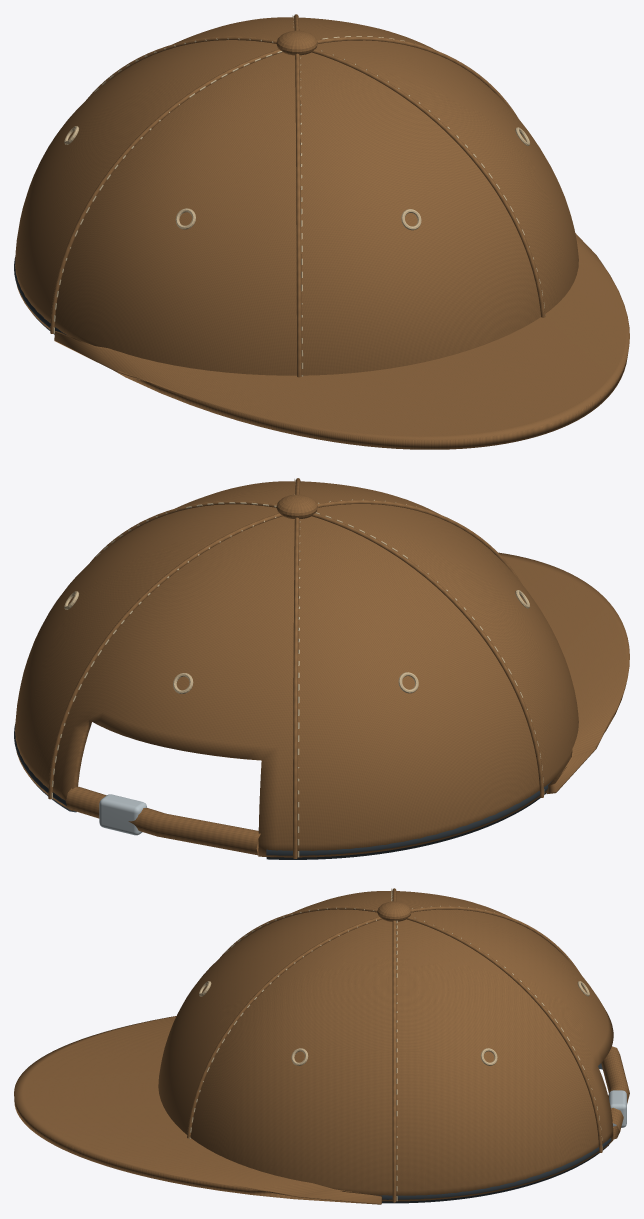
Rendered from BaseballCap_cm.glb.
The picture shows the model from 3 angles, top to bottom: view 1: azimuth 30°, elevation 25°; view 2: azimuth 150°, elevation 25°; view 3: azimuth 270°, elevation 25°; orthographic projection. The views are drawn at different scales.
Parts seen in each view (by area): view 1: Cap_SixPanelHollowCrown, Cap_CurvedVisor, Cap_PanelSeam.005, Cap_PanelSeam.004, Cap_PanelSeam.003, Cap_PanelSeam, Cap_CrownButton, Cap_PanelSeam.002; view 2: Cap_SixPanelHollowCrown, Cap_CurvedVisor, Cap_RearAdjustmentStrap, Cap_InnerSweatband, Cap_PanelSeam.003, Cap_PanelSeam.002, Cap_PanelSeam.001, Cap_AdjustmentBuckle, Cap_PanelSeam.004, Cap_CrownButton, Cap_PanelSeam; view 3: Cap_SixPanelHollowCrown, Cap_CurvedVisor, Cap_InnerSweatband, Cap_PanelSeam, Cap_PanelSeam.001, Cap_PanelSeam.005, Cap_RearAdjustmentStrap, Cap_PanelSeam.002, Cap_CrownButton, Cap_PanelSeam.004.
Part boxes in pixels (x1,y1,x2,y2): Cap_SixPanelHollowCrown: [15, 17, 578, 375]; Cap_CurvedVisor: [54, 233, 629, 449]; Cap_PanelSeam.005: [312, 49, 545, 317]; Cap_PanelSeam.004: [295, 53, 301, 377]; Cap_PanelSeam.003: [50, 49, 282, 333]; Cap_PanelSeam: [317, 36, 517, 117]; Cap_CrownButton: [276, 30, 317, 55]; Cap_PanelSeam.002: [86, 36, 276, 99]; Cap_SixPanelHollowCrown: [15, 481, 578, 857]; Cap_CurvedVisor: [498, 552, 629, 793]; Cap_RearAdjustmentStrap: [66, 786, 260, 855]; Cap_InnerSweatband: [14, 722, 551, 859]; Cap_PanelSeam.003: [312, 513, 543, 797]; Cap_PanelSeam.002: [293, 517, 299, 858]; Cap_PanelSeam.001: [48, 513, 282, 799]; Cap_AdjustmentBuckle: [99, 794, 146, 835]; Cap_PanelSeam.004: [317, 500, 521, 582]; Cap_CrownButton: [276, 494, 317, 518]; Cap_PanelSeam: [90, 500, 277, 562]; Cap_SixPanelHollowCrown: [158, 891, 613, 1201]; Cap_CurvedVisor: [14, 1016, 382, 1204]; Cap_InnerSweatband: [375, 1063, 611, 1203]; Cap_PanelSeam: [392, 920, 396, 1202]; Cap_PanelSeam.001: [407, 917, 602, 1152]; Cap_PanelSeam.005: [187, 917, 381, 1138]; Cap_RearAdjustmentStrap: [601, 1046, 629, 1139]; Cap_PanelSeam.002: [411, 906, 580, 973]; Cap_CrownButton: [377, 901, 411, 921]; Cap_PanelSeam.004: [220, 906, 377, 957].
Bounding box in the file's own units: 6.39 × 2.99 × 8.19.
4 materials, 1 textured.
